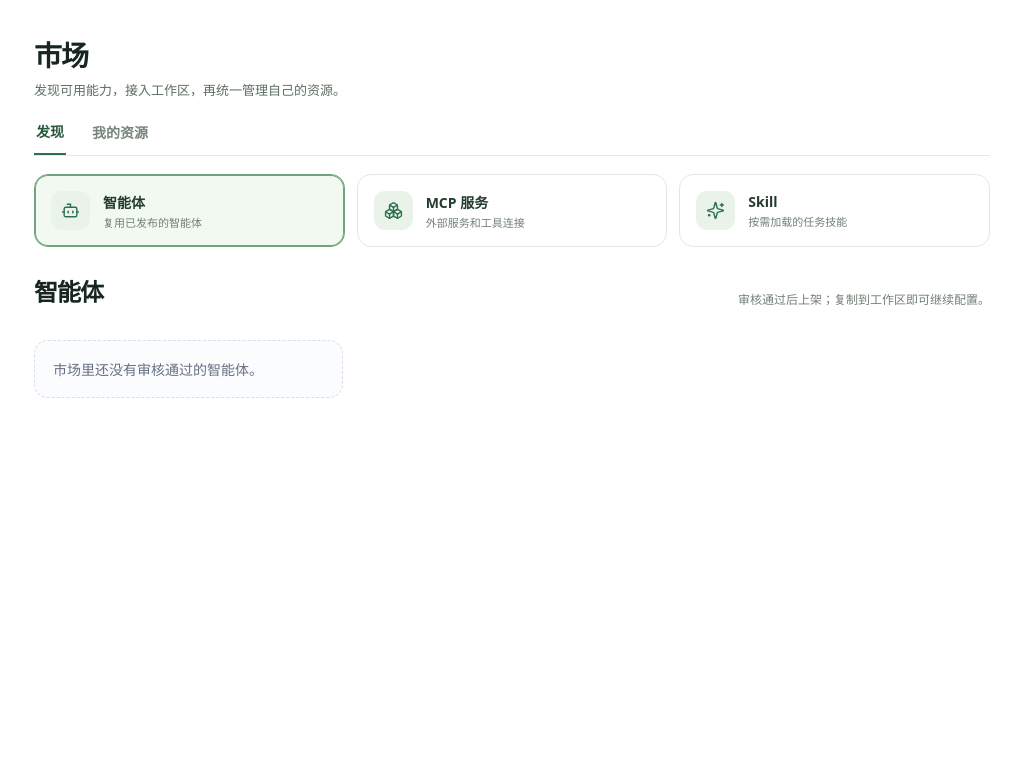
市场资源分类 › 我的资源在同一入口中管理提示词，切回发现仍能复用智能体
Click the button "我的资源": (120, 138) [90,121,150,155]
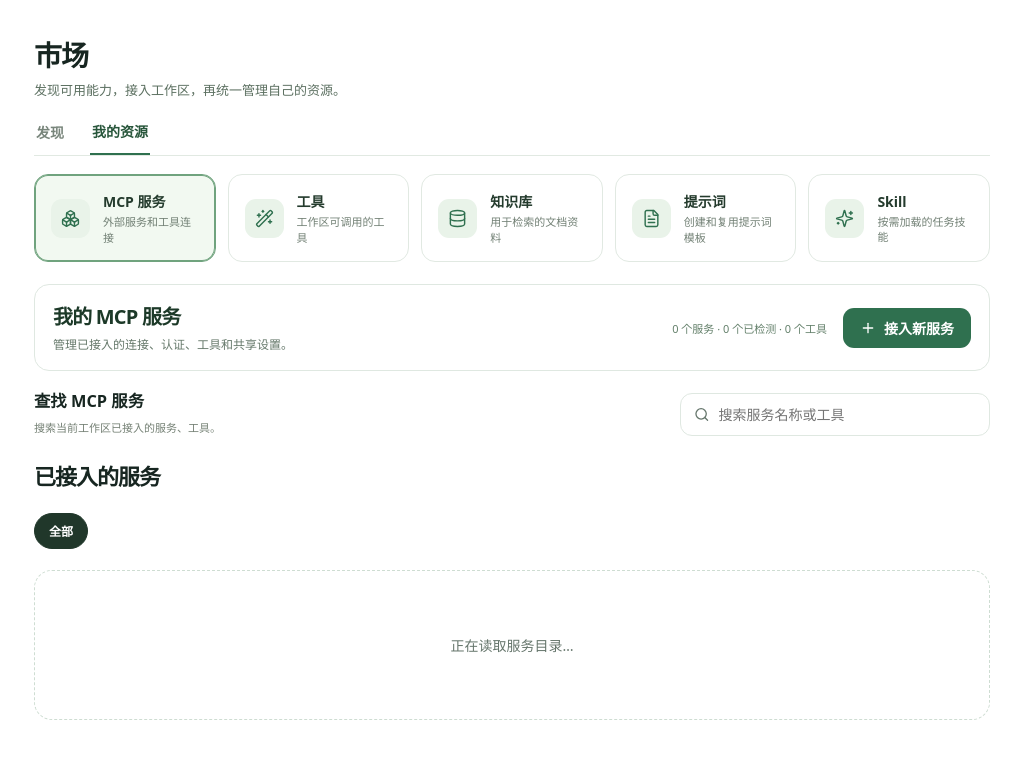
Click the button "提示词 创建和复用提示词模板": (706, 218) [615,174,796,262]
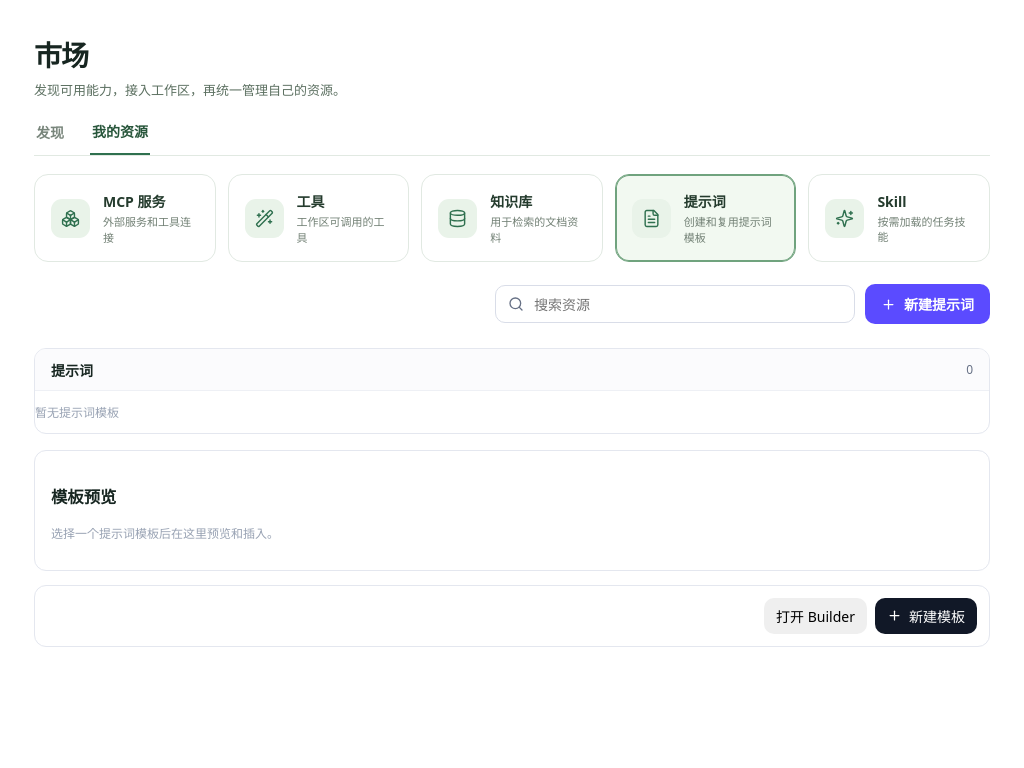
Now the button "新建提示词" is shown, box [865,284,990,324]
Click the button "发现": (50, 138) [34,121,66,155]
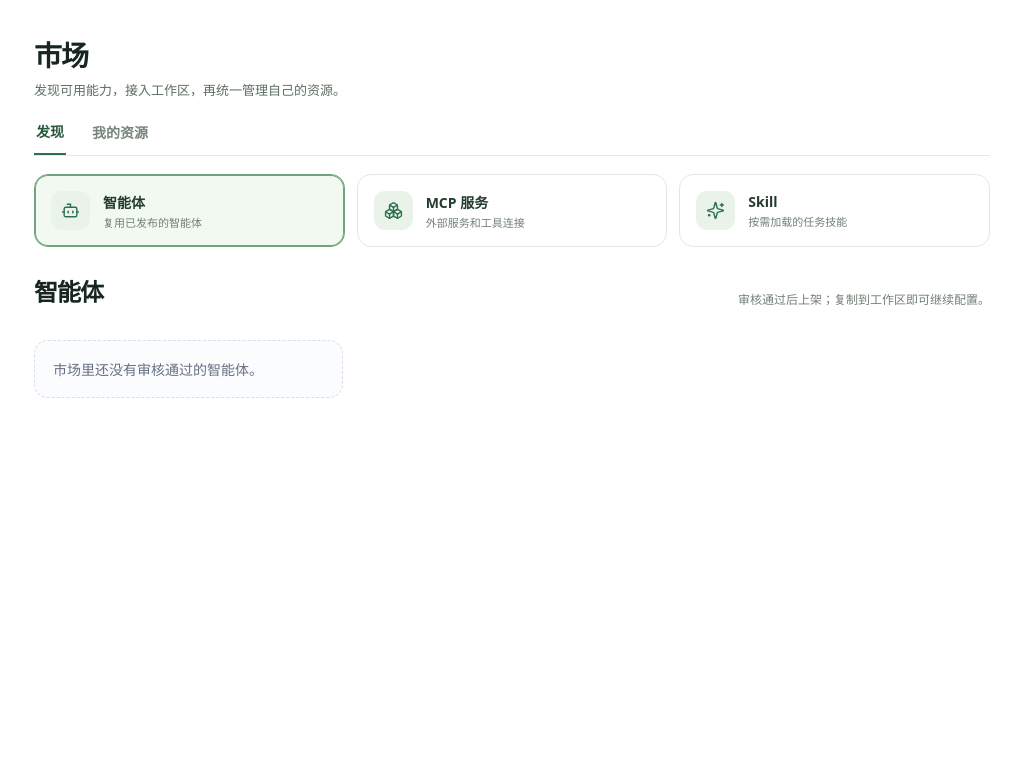
Now the heading "智能体" is shown, box [34,273,103,308]
